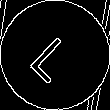L_NE: (27, 26, 83, 84)
